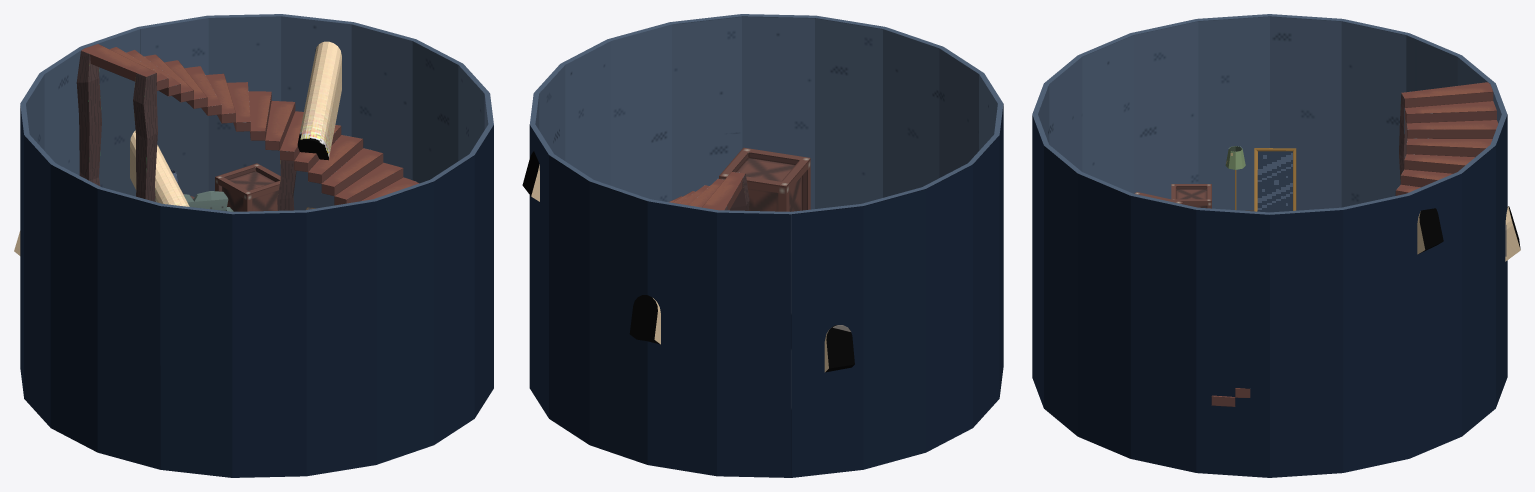
The model's file is FLOOR2_LighthouseINSIDE.fbx.
3 renders of one model, left to right at view 1: azimuth 30°, elevation 25°; view 2: azimuth 150°, elevation 25°; view 3: azimuth 270°, elevation 25°, orthographic.
Parts seen in each view (by area): view 1: pCylinder5, polySurface152, ray_3, pCube237, ray_2, pCube12; view 2: pCylinder5, pCube239, polySurface152, ray_2, ray_1, ray_3; view 3: pCylinder5, polySurface152, furniture:pCube13, ray_3, pCube236, ray_2.
Part boxes in pixels (box(x1,y1,x2,y2)): pCylinder5: box(20, 14, 493, 477); polySurface152: box(76, 44, 418, 210); ray_3: box(297, 41, 341, 160); pCube237: box(215, 163, 280, 211); ray_2: box(130, 130, 189, 206); pCube12: box(155, 191, 233, 211); pCylinder5: box(529, 14, 1003, 477); pCube239: box(719, 147, 810, 211); polySurface152: box(669, 171, 749, 210); ray_2: box(629, 295, 660, 344); ray_1: box(824, 325, 854, 372); ray_3: box(522, 151, 539, 201); pCylinder5: box(1032, 14, 1507, 477); polySurface152: box(1211, 82, 1498, 406); furniture:pCube13: box(1254, 148, 1296, 212); ray_3: box(1417, 208, 1443, 254); pCube236: box(1171, 184, 1211, 208); ray_2: box(1505, 206, 1520, 261).
Bounding box in the file's own units: 1269 × 775 × 1305.
15 materials, 15 textured.
